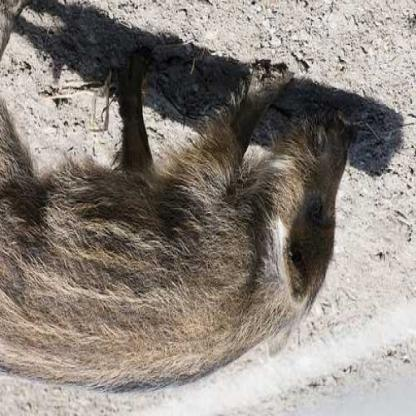boar: (0, 2, 373, 411)
